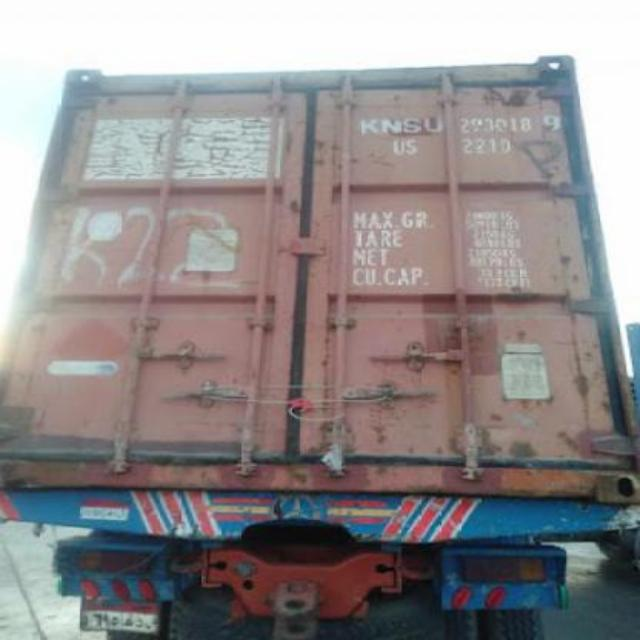0: (492, 116, 510, 132)
1: (508, 116, 522, 134)
2: (458, 118, 472, 132)
3: (482, 116, 494, 134)
8: (520, 115, 530, 134)
9: (540, 113, 562, 131), (470, 117, 480, 133)
K: (359, 117, 381, 135)
N: (380, 114, 404, 134)
S: (402, 114, 422, 134)
U: (422, 114, 444, 134)
